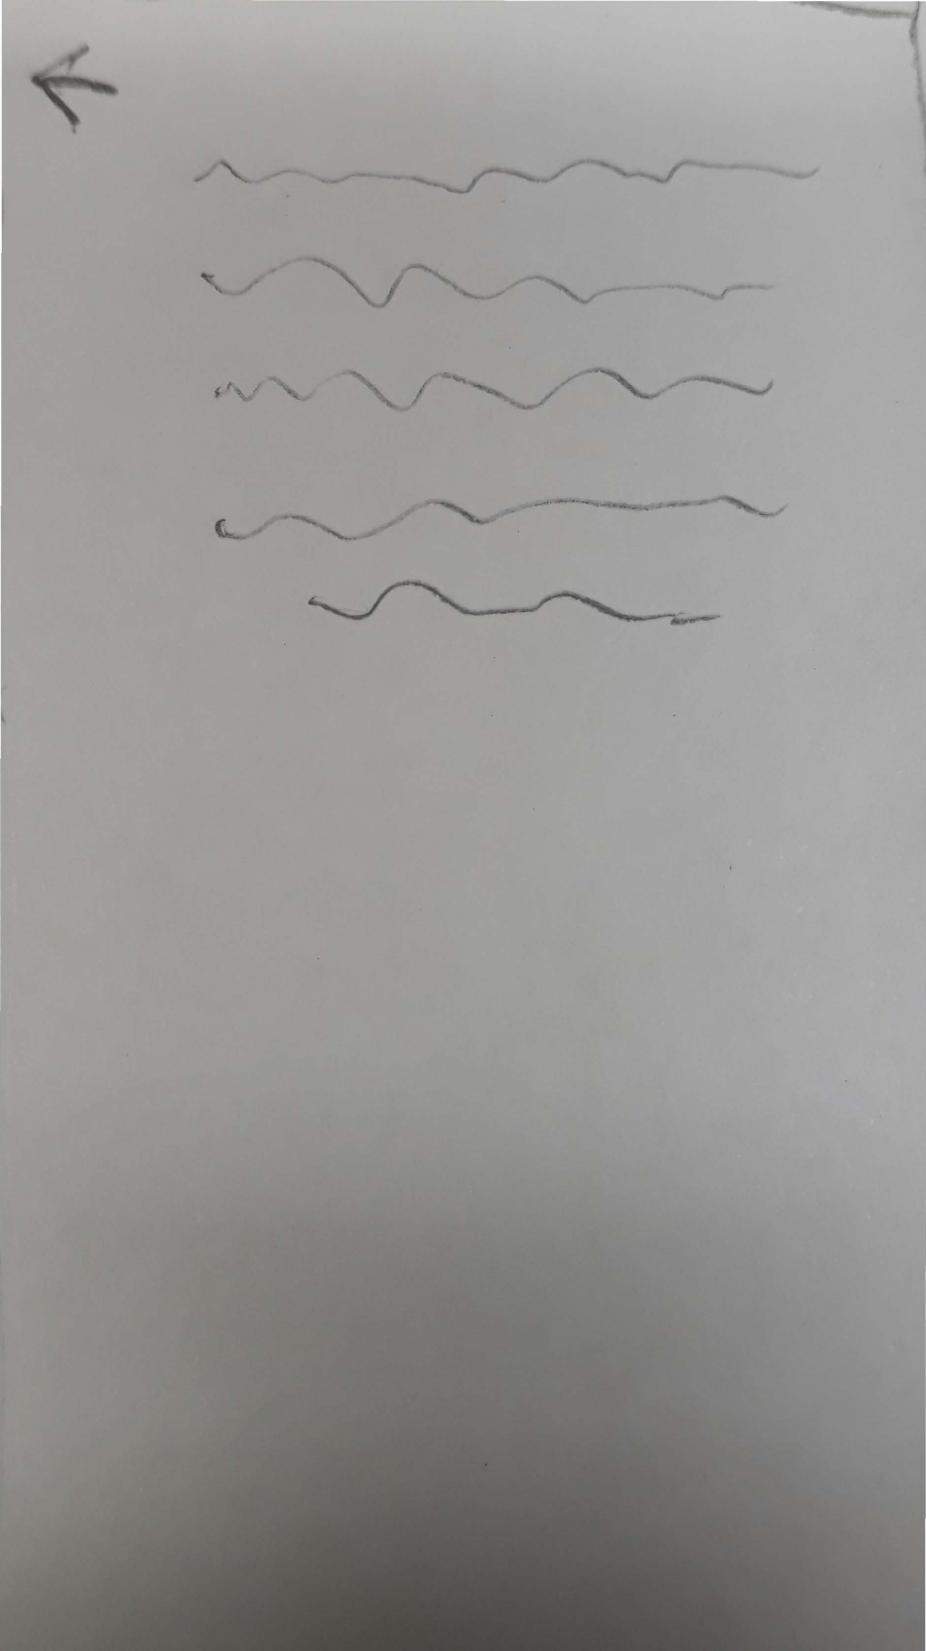Button: (26, 40, 127, 133)
Label: (193, 155, 817, 625)
Screen: (0, 0, 925, 1650)
